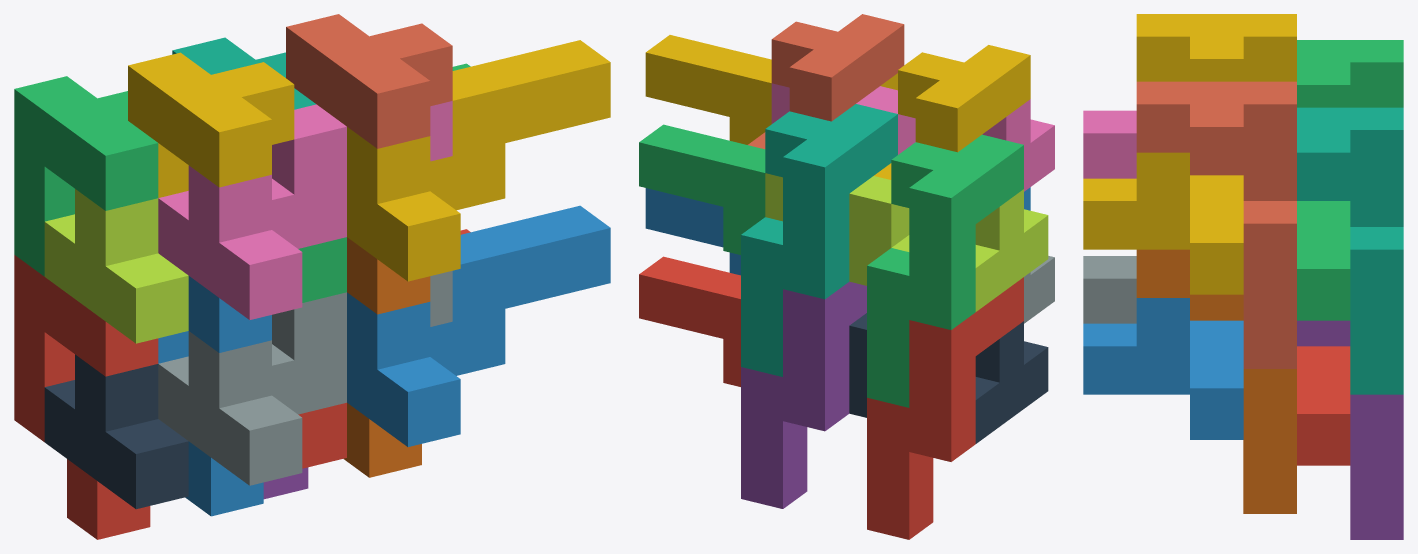
Rendered from tiling.obj.
3 renders of one model, left to right at view 1: azimuth 30°, elevation 25°; view 2: azimuth 150°, elevation 25°; view 3: azimuth 270°, elevation 25°, orthographic. The views are drawn at different scales.
Visible parts, largest first — view 1: copy_2_domain_8, copy_2_domain_6, copy_2_domain_4, copy_2_domain_2, copy_1_domain_3, copy_1_domain_4, copy_1_domain_8, copy_1_domain_1, copy_2_domain_3, copy_2_domain_1, copy_1_domain_2, copy_1_domain_6 (+4 smaller); view 2: copy_1_domain_3, copy_1_domain_7, copy_1_domain_1, copy_1_domain_5, copy_2_domain_3, copy_1_domain_8, copy_1_domain_4, copy_2_domain_7, copy_2_domain_8, copy_2_domain_1, copy_2_domain_5, copy_2_domain_4 (+2 smaller); view 3: copy_1_domain_8, copy_1_domain_7, copy_2_domain_8, copy_2_domain_6, copy_1_domain_6, copy_1_domain_4, copy_1_domain_5, copy_1_domain_3, copy_2_domain_5, copy_2_domain_7, copy_2_domain_4, copy_2_domain_2.
Boxes of the visible parts, box(x1,y1,x2,y2) form: copy_2_domain_8: box(347, 40, 610, 281); copy_2_domain_6: box(347, 205, 610, 446); copy_2_domain_4: box(158, 101, 452, 319); copy_2_domain_2: box(158, 271, 452, 485); copy_1_domain_3: box(14, 76, 158, 276); copy_1_domain_4: box(128, 52, 294, 197); copy_1_domain_8: box(286, 14, 452, 148); copy_1_domain_1: box(14, 255, 158, 539); copy_2_domain_3: box(44, 189, 188, 343); copy_2_domain_1: box(44, 354, 188, 509); copy_1_domain_2: box(158, 276, 271, 516); copy_1_domain_6: box(343, 237, 430, 477); copy_1_domain_3: box(867, 134, 1023, 407); copy_1_domain_7: box(741, 104, 897, 376); copy_1_domain_1: box(867, 277, 1023, 539); copy_1_domain_5: box(741, 281, 866, 508); copy_2_domain_3: box(765, 173, 1048, 311); copy_1_domain_8: box(748, 14, 904, 149); copy_1_domain_4: box(874, 45, 1030, 179); copy_2_domain_7: box(639, 124, 765, 254); copy_2_domain_8: box(645, 35, 897, 144); copy_2_domain_1: box(849, 313, 1048, 443); copy_2_domain_5: box(639, 256, 740, 386); copy_2_domain_4: box(771, 83, 1054, 191); copy_1_domain_8: box(1136, 81, 1296, 368); copy_1_domain_7: box(1297, 107, 1403, 394); copy_2_domain_8: box(1083, 152, 1243, 294); copy_2_domain_6: box(1083, 298, 1243, 439); copy_1_domain_6: box(1136, 249, 1296, 513); copy_1_domain_4: box(1136, 14, 1296, 81); copy_1_domain_5: box(1297, 320, 1403, 539); copy_1_domain_3: box(1297, 40, 1403, 107); copy_2_domain_5: box(1297, 346, 1350, 465); copy_2_domain_7: box(1297, 201, 1350, 320); copy_2_domain_4: box(1083, 110, 1136, 178); copy_2_domain_2: box(1083, 256, 1136, 323).
Bounding box in the file's own units: 9 × 9 × 6.
